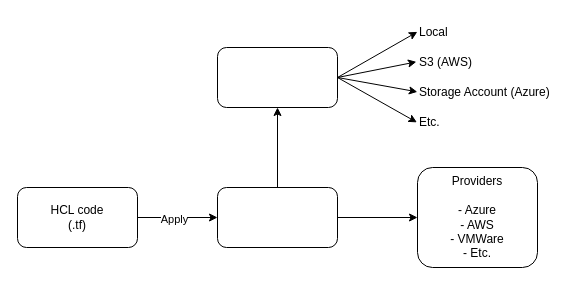
Image size: 585x285. Some labels were removed from this diagram. Each missing label, with the box of its shape:
State (.tfstate): (216, 46, 338, 108)
Terraform: (216, 186, 338, 248)
